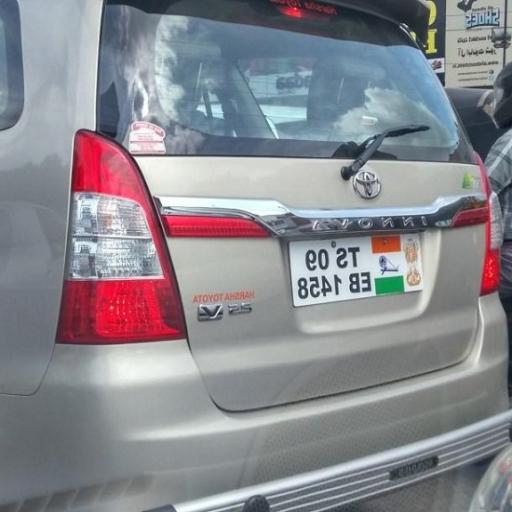License: (288, 230, 426, 307)
